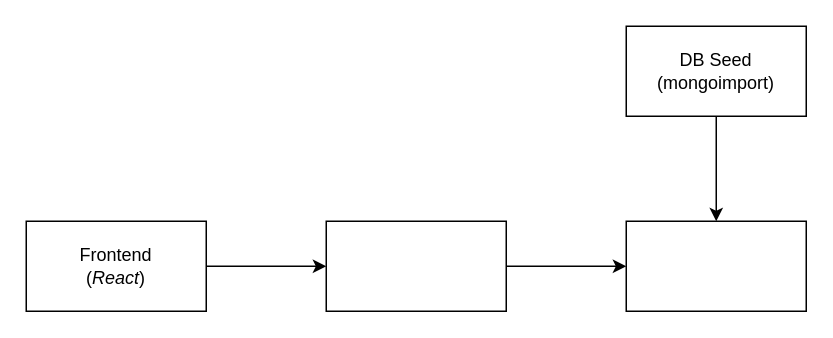
The diagram is 833 pixels wide and 338 high, and some of its shapes have lost their labels. Here are the shapes that lost their labels. From the top down, the centre of each, then its label:
At point (415, 265): "API ( Node.js )".
At point (715, 265): "DB (MongoDB)".
